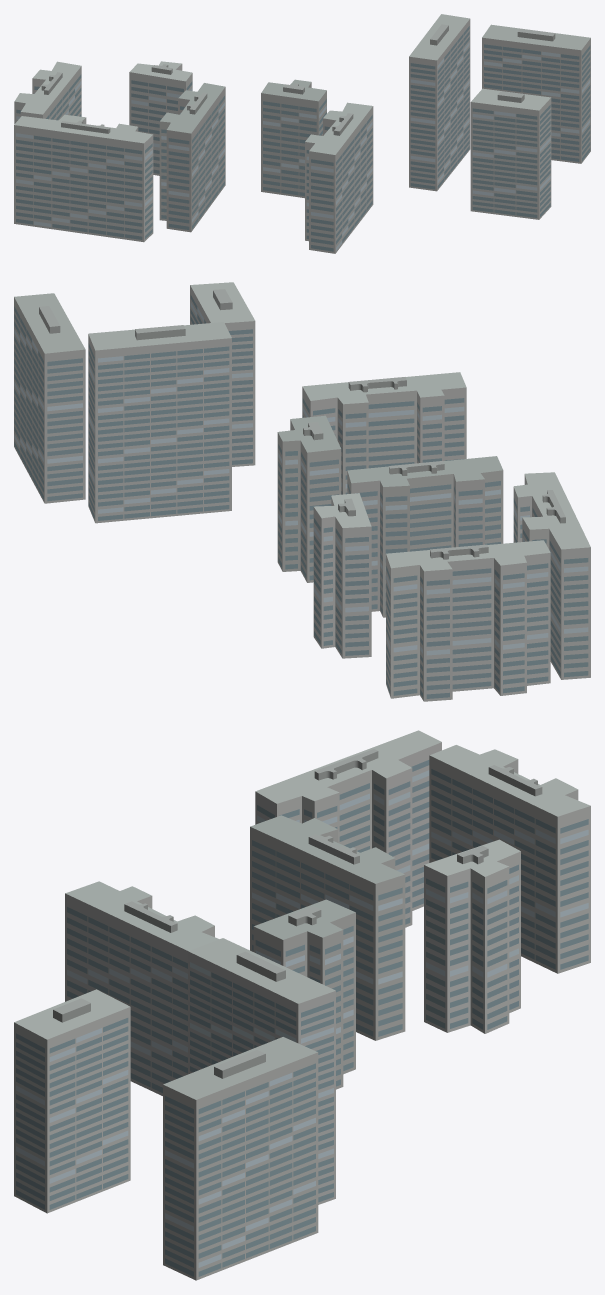
File: apt-a15288805.glb
3 renders of one model, top to bottom at view 1: azimuth 30°, elevation 25°; view 2: azimuth 150°, elevation 25°; view 3: azimuth 270°, elevation 25°, orthographic. The views are drawn at different scales.
Visible parts, largest first — view 1: apt-a15288805; view 2: apt-a15288805; view 3: apt-a15288805.
Part boxes in pixels (x1,y1,x2,y2): apt-a15288805: (14,14,590,253); apt-a15288805: (14,282,590,701); apt-a15288805: (14,730,590,1280).
Bounding box in the file's own units: 246 × 63 × 152.
